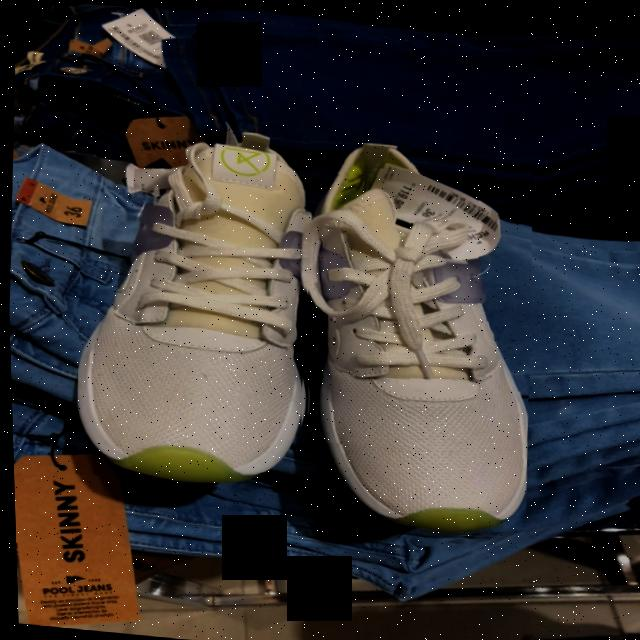shoe: (307, 141, 525, 532), (75, 131, 307, 483)
